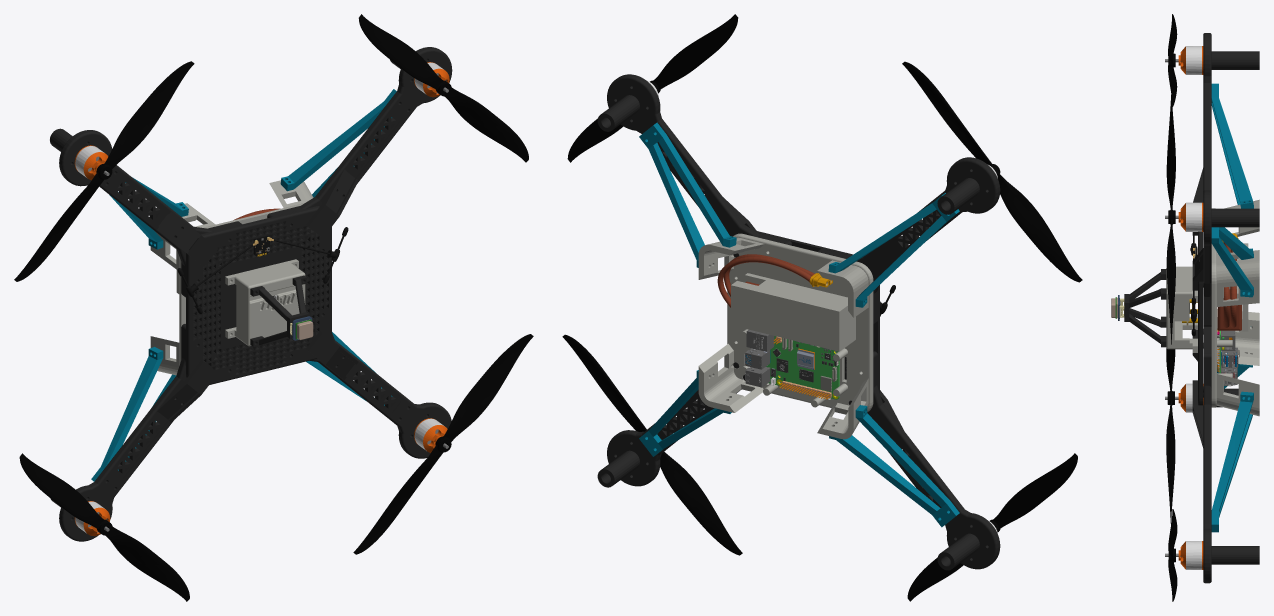
File: quadcopter.glb
3 views of the same model, side by side, from view 1: azimuth 30°, elevation 25°; view 2: azimuth 150°, elevation 25°; view 3: azimuth 270°, elevation 25° (orthographic). The views are drawn at different scales.
Bounding box in the file's own units: 541 × 542 × 141.
